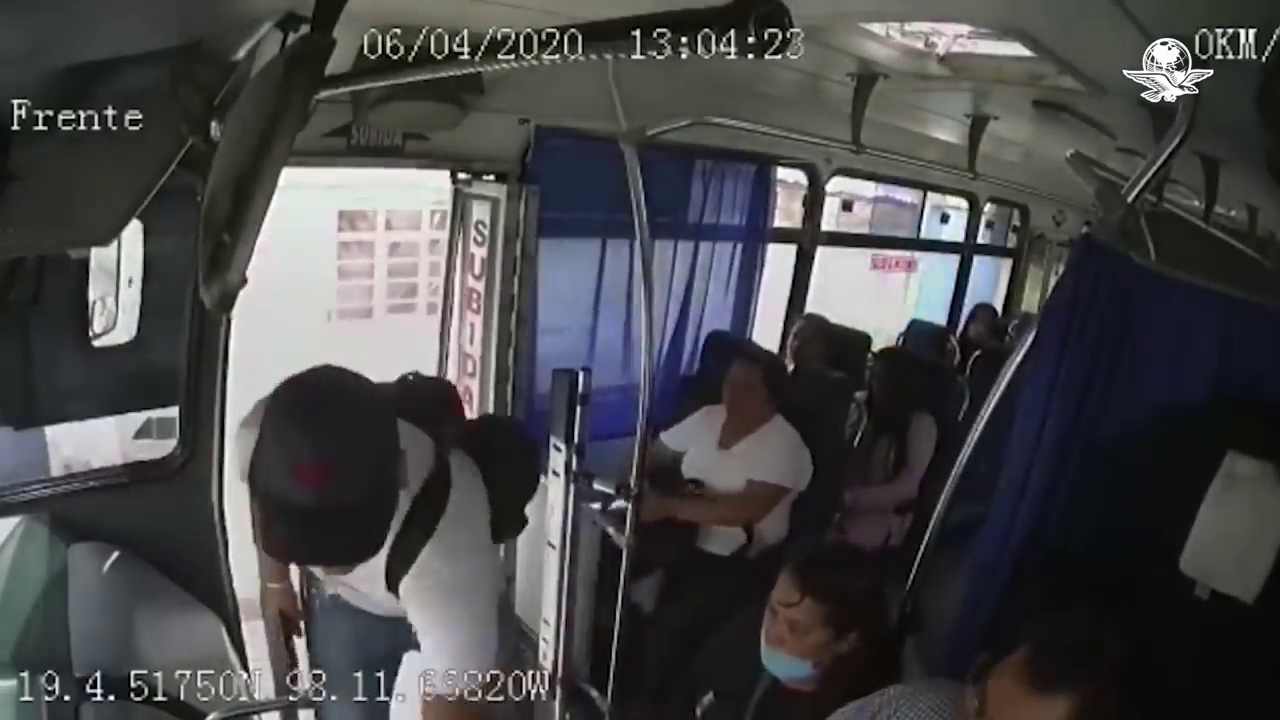pistol: (272, 602, 308, 686)
